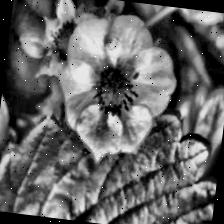Blossom Blight: (85, 56, 145, 122)
